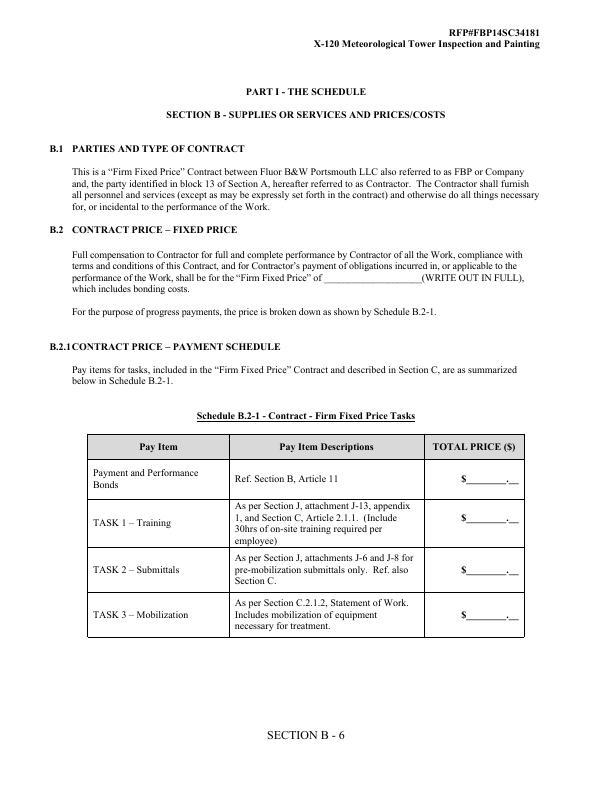input: (324, 274, 421, 288)
table: (83, 432, 533, 642)
text: (46, 142, 546, 216), (67, 362, 530, 390), (70, 248, 526, 273), (161, 84, 451, 122), (311, 22, 545, 54), (72, 305, 442, 321), (194, 408, 421, 424), (47, 339, 289, 353), (70, 274, 321, 286), (48, 223, 243, 238), (72, 285, 195, 295), (426, 273, 530, 284)
